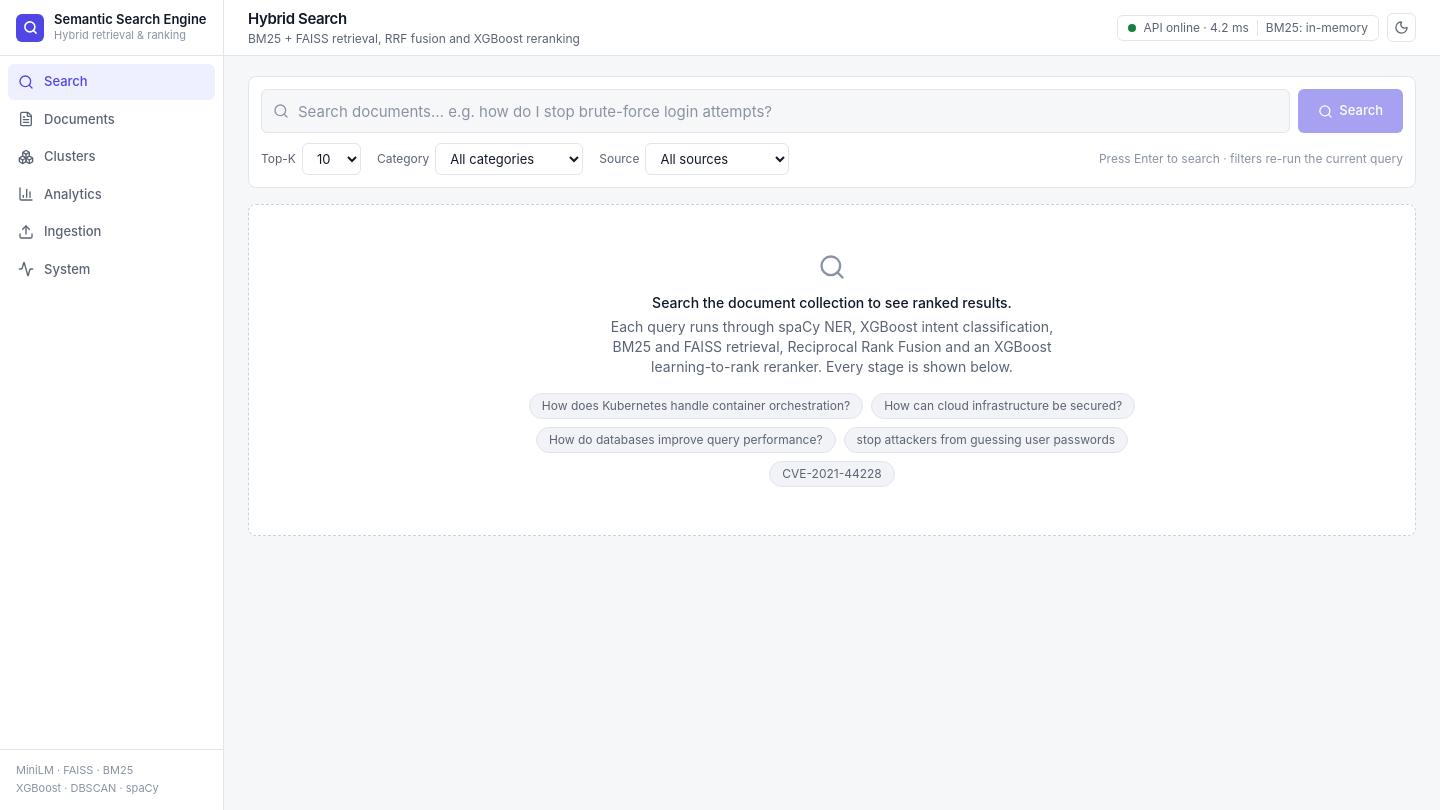
Scenario: Search page › expands the ranking explanation with backend features
Type "security architecture for AWS" into the field named "Search query".
click(776, 111); type("security architecture for AWS")  # box x1=261 y1=89 x2=1290 y2=133
Then press Enter
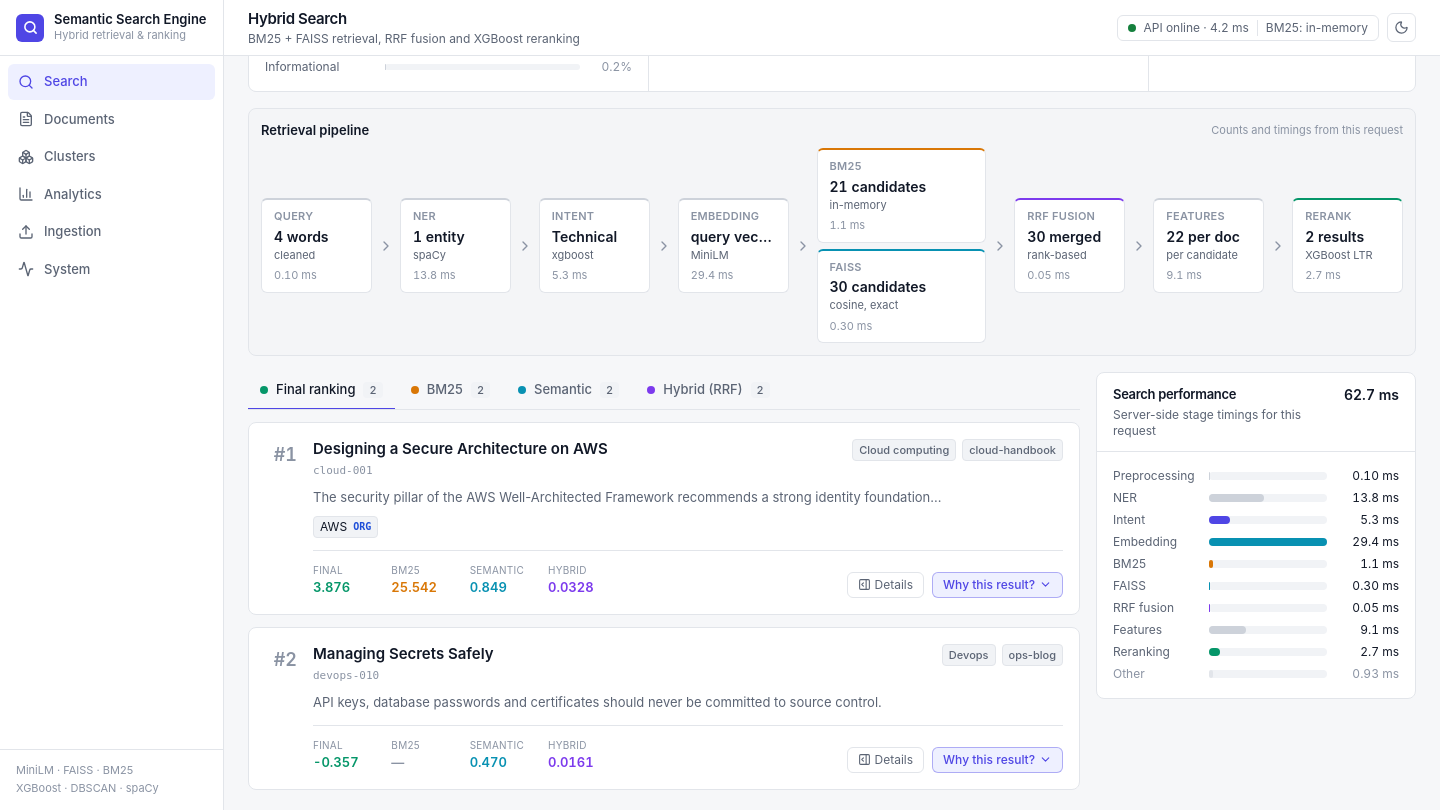
Click the button "Why this result?" in the row of "0.0161".
click(998, 760)  # box x1=932 y1=747 x2=1063 y2=773
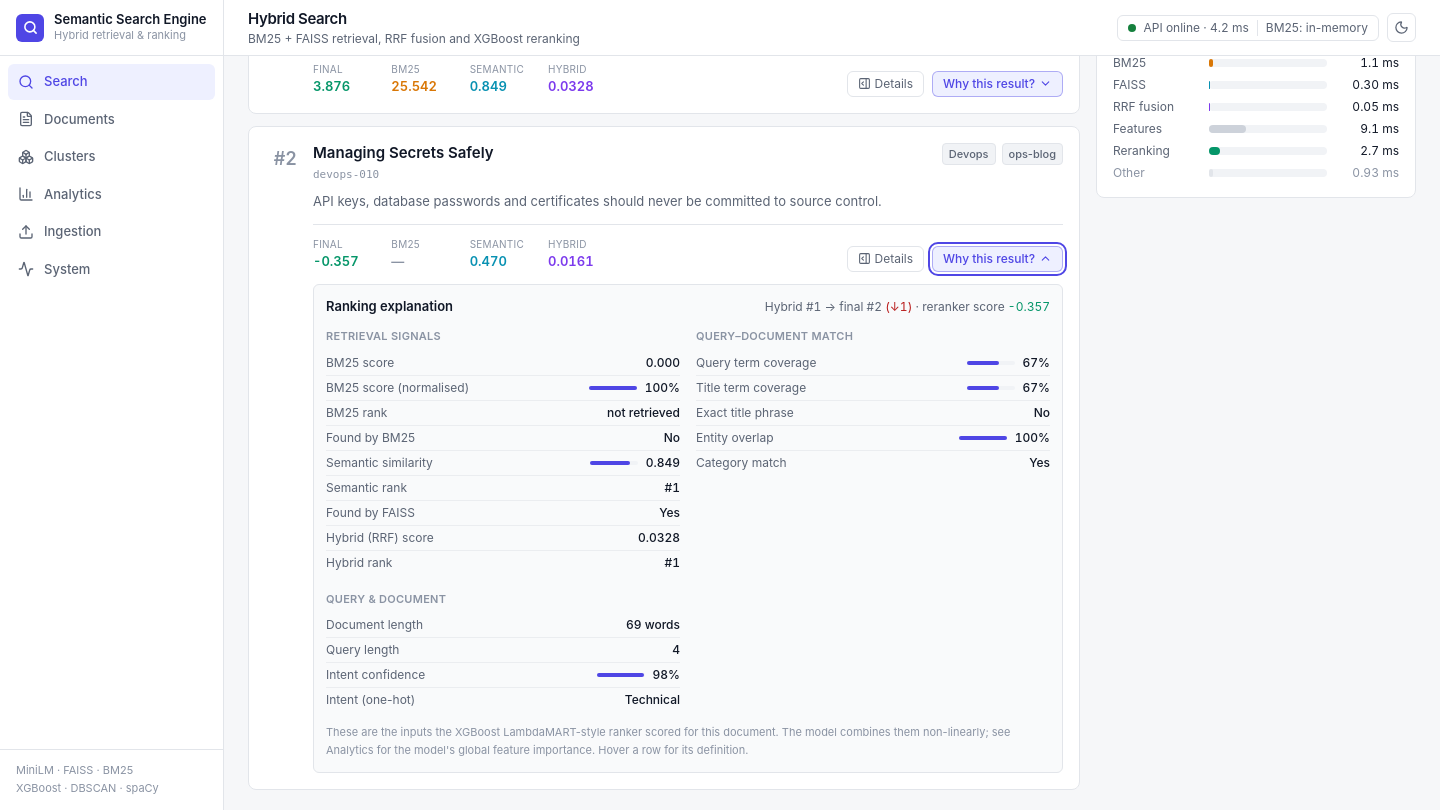
Expected: the text "BM25 rank" shows "not retrieved", x1=607 y1=405 x2=680 y2=420
Expected: the text "Entity overlap" shows "100%", x1=1015 y1=430 x2=1050 y2=445
Expected: the text "Category match" shows "Yes", x1=1029 y1=455 x2=1050 y2=470
